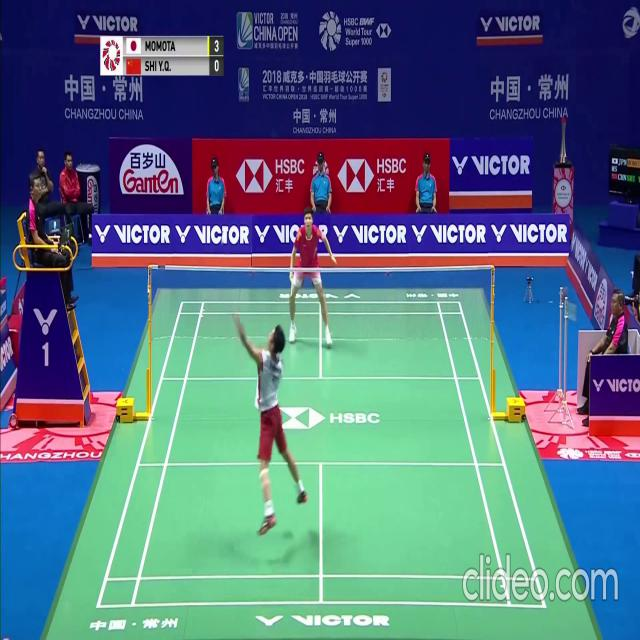Shuttlecock: (221, 235, 226, 243)
